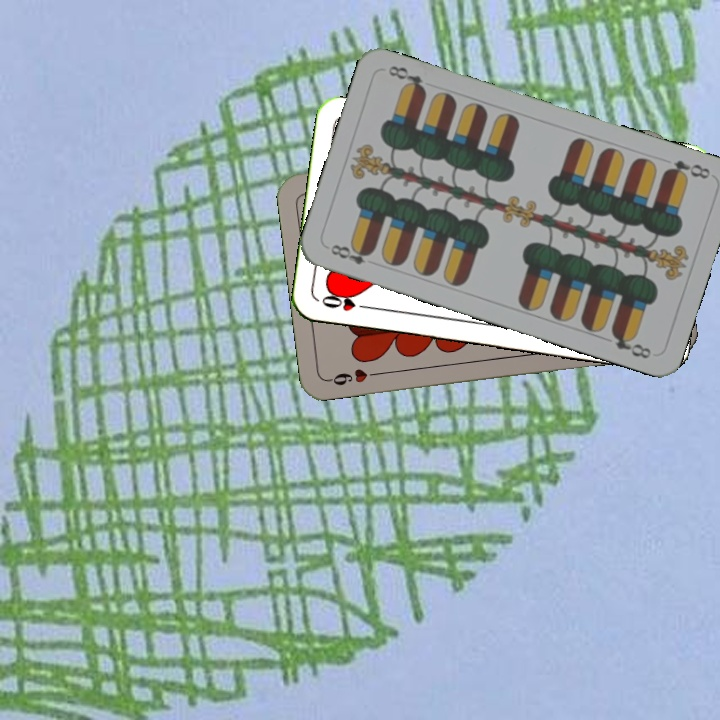E8: (659, 155, 713, 183), (326, 240, 376, 268)
H9: (324, 364, 383, 388)
HO: (317, 290, 375, 314)
